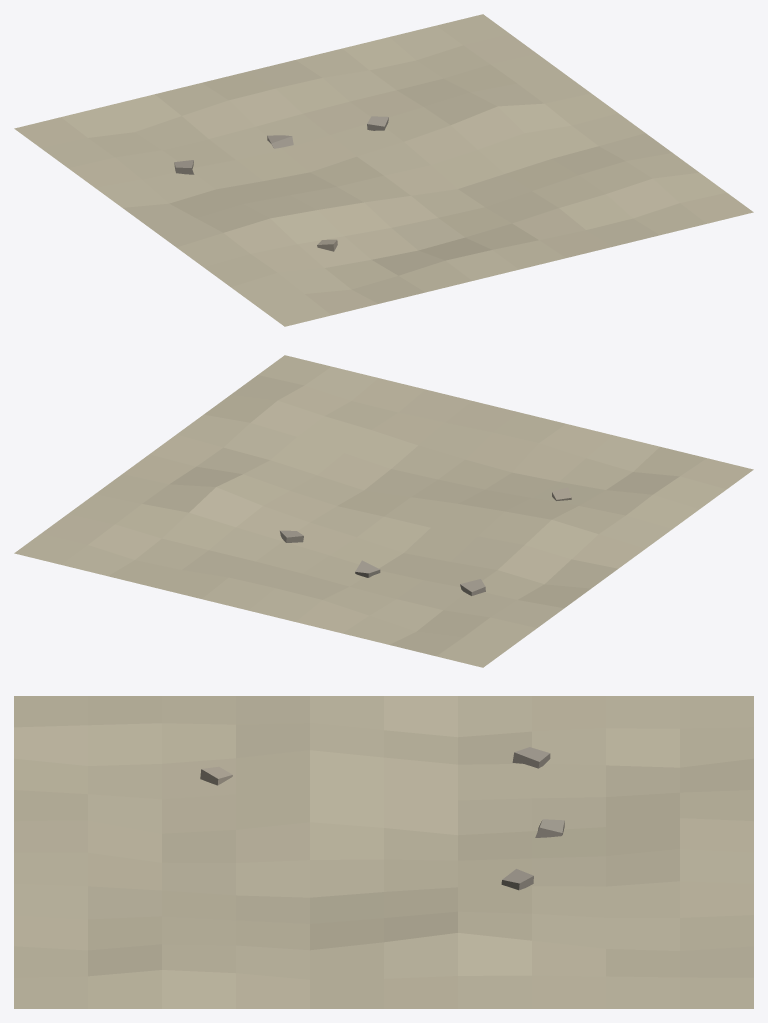
Rendered from sand_lowpoly_b.glb.
3 renders of one model, top to bottom at view 1: azimuth 30°, elevation 25°; view 2: azimuth 150°, elevation 25°; view 3: azimuth 270°, elevation 25°, orthographic. The views are drawn at different scales.
Parts seen in each view (by area): view 1: SandTile; view 2: SandTile; view 3: SandTile.
Boxes of the visible parts, left/top/right/bottom form: SandTile: left=14, top=14, right=753, bottom=326; SandTile: left=14, top=355, right=753, bottom=667; SandTile: left=14, top=696, right=753, bottom=1008.
Size of the model in its own units: 1 by 0.0539 by 1.
